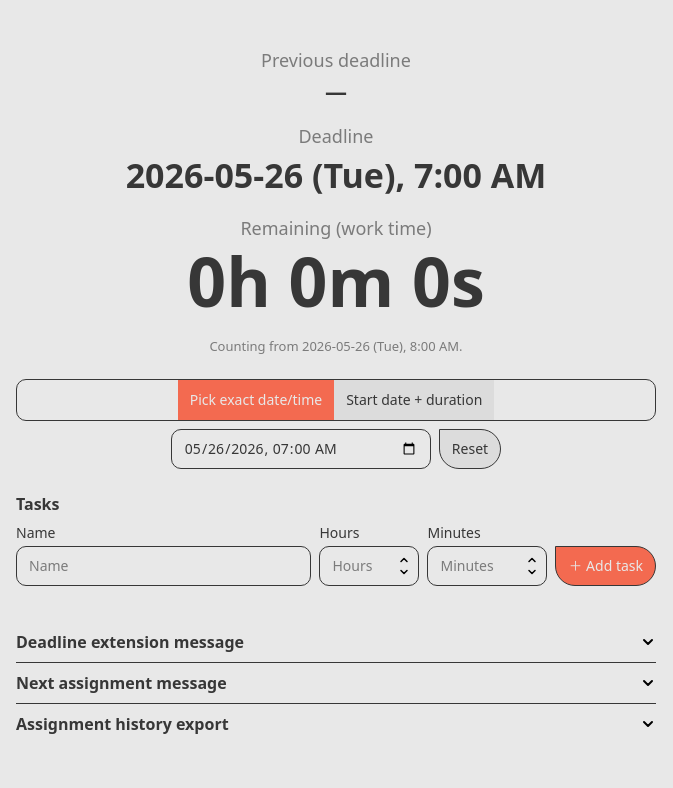
Test: App deadline behavior › supports deadline start-plus-duration input mode
Click the button "Start date + duration" at (414,400), box [334,380,494,420]
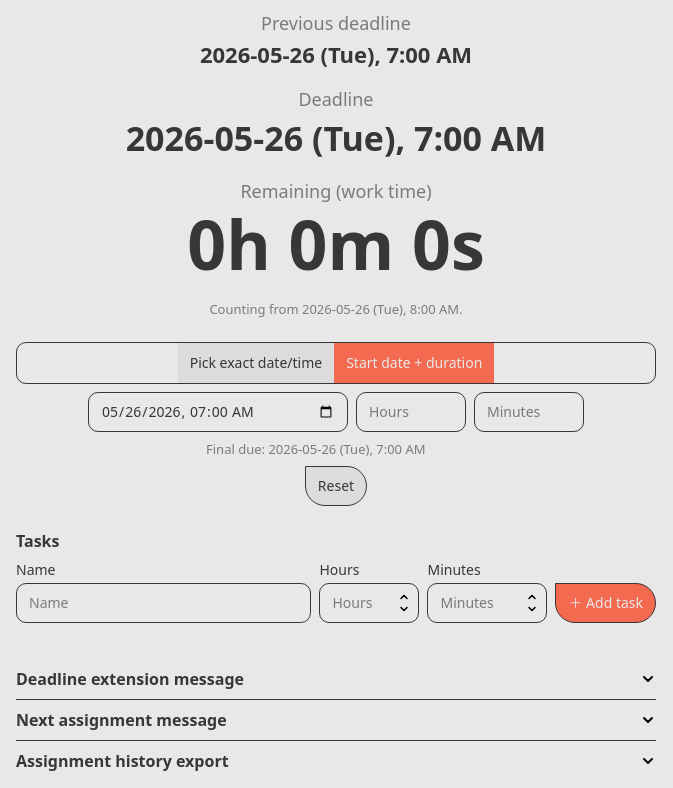
Replace the text in the field named "Deadline start time" with "2026-04-10T12:00" at (218,412), box [88,392,348,432]
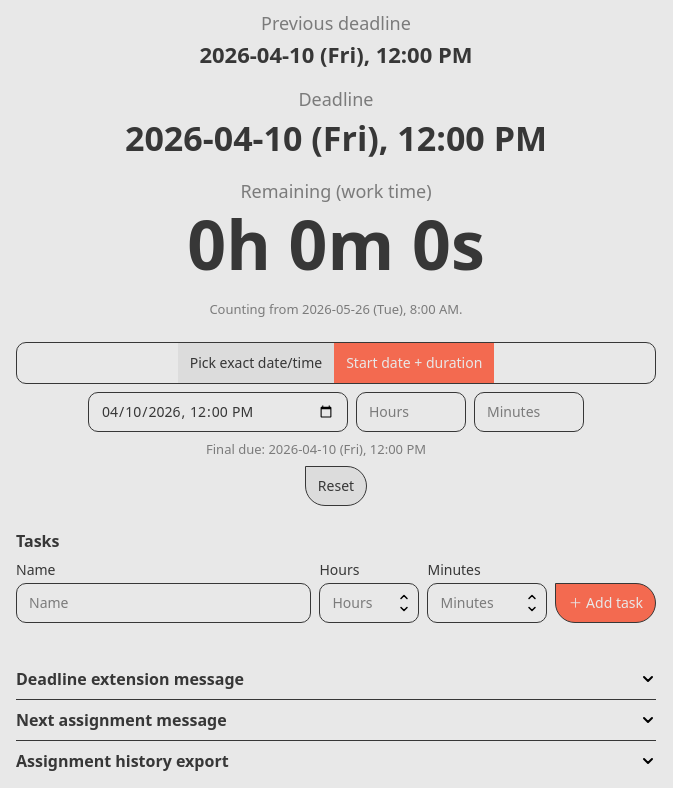
Type "2" into the number field named "Deadline duration hours" at (411,412), box [356,392,466,432]
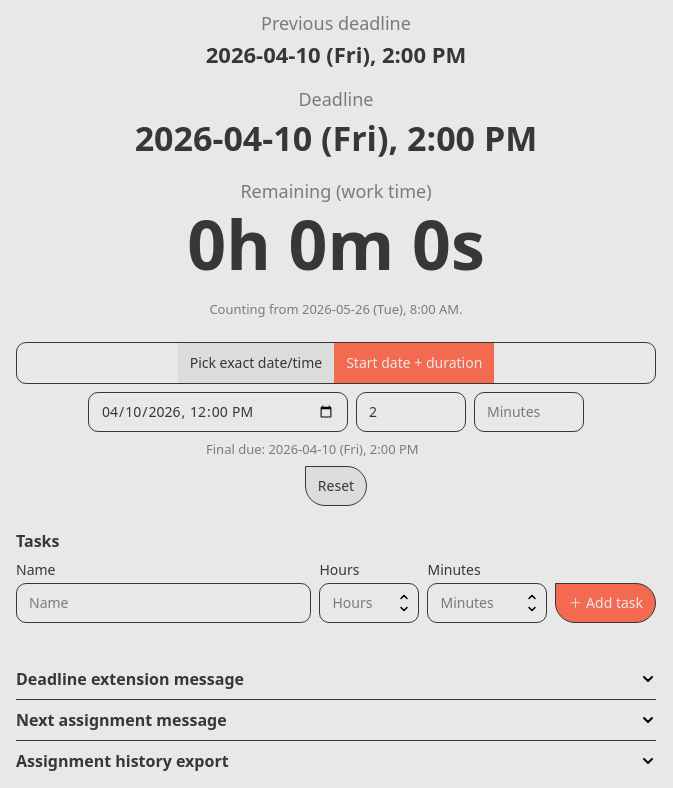
Type "30" into the number field named "Deadline duration minutes" at (529,412), box [474,392,584,432]
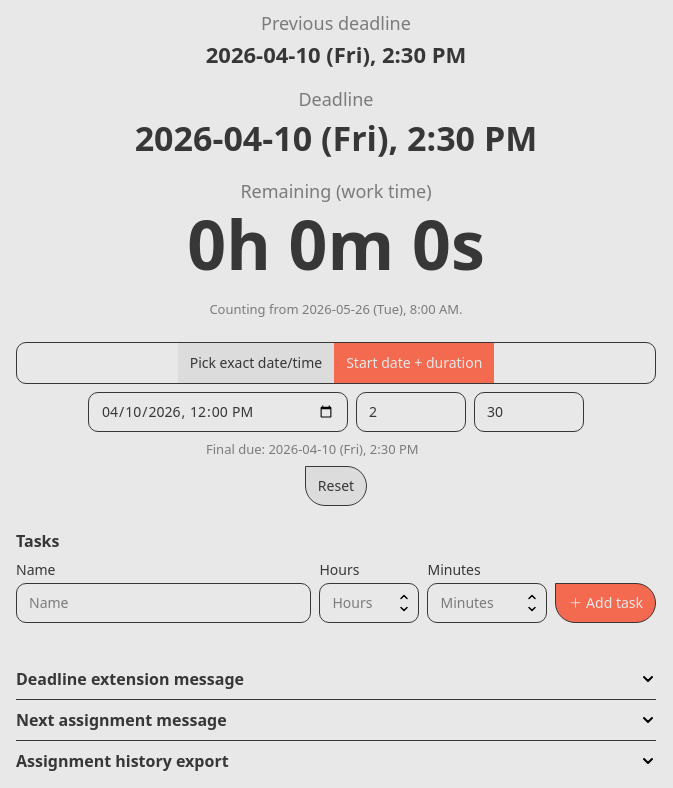
Check: the text named "Current deadline display" shows "2:30 PM", box [135,115,537,161]
Check: the text named "Computed deadline preview" shows "2:30 PM", box [268,440,419,458]
